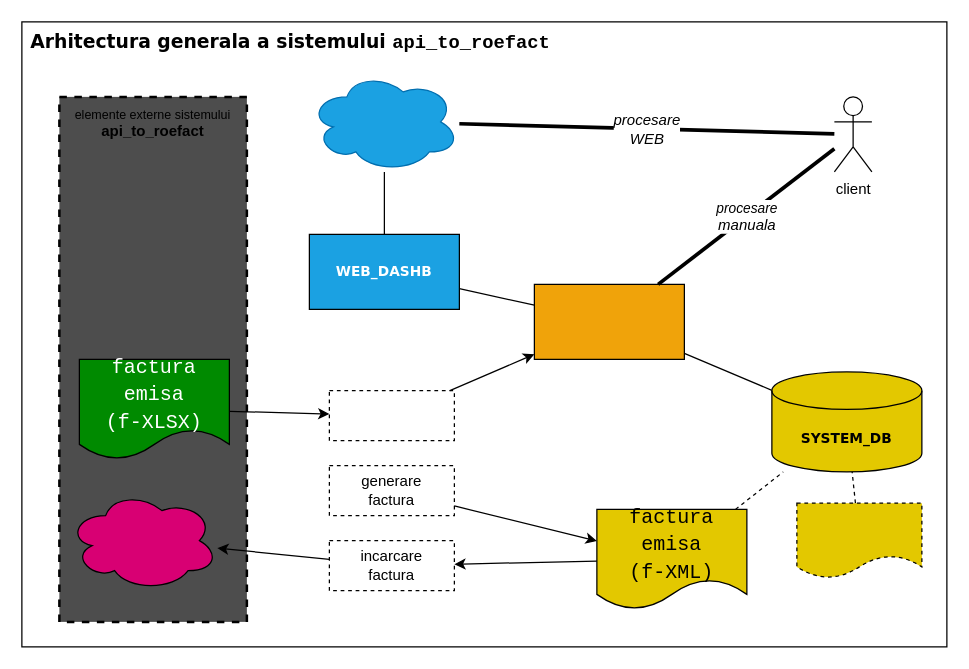
This 969x669 diagram has some shape labels left out. The centre of each missing label's shape, as x and y in pixels:
BASE_PROC: (x=608, y=321)
factura emisa (f-JSON): (x=859, y=540)
preluare factura: (x=391, y=415)
sistem ANAF E-Factura: (x=142, y=540)
web: (x=383, y=121)
